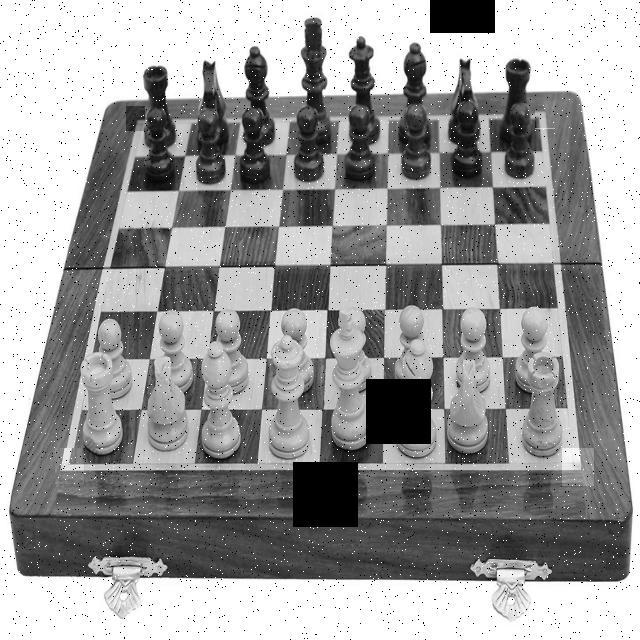chess-table-corners: (562, 448, 594, 486), (56, 448, 86, 484), (535, 102, 555, 130), (126, 106, 145, 131)
